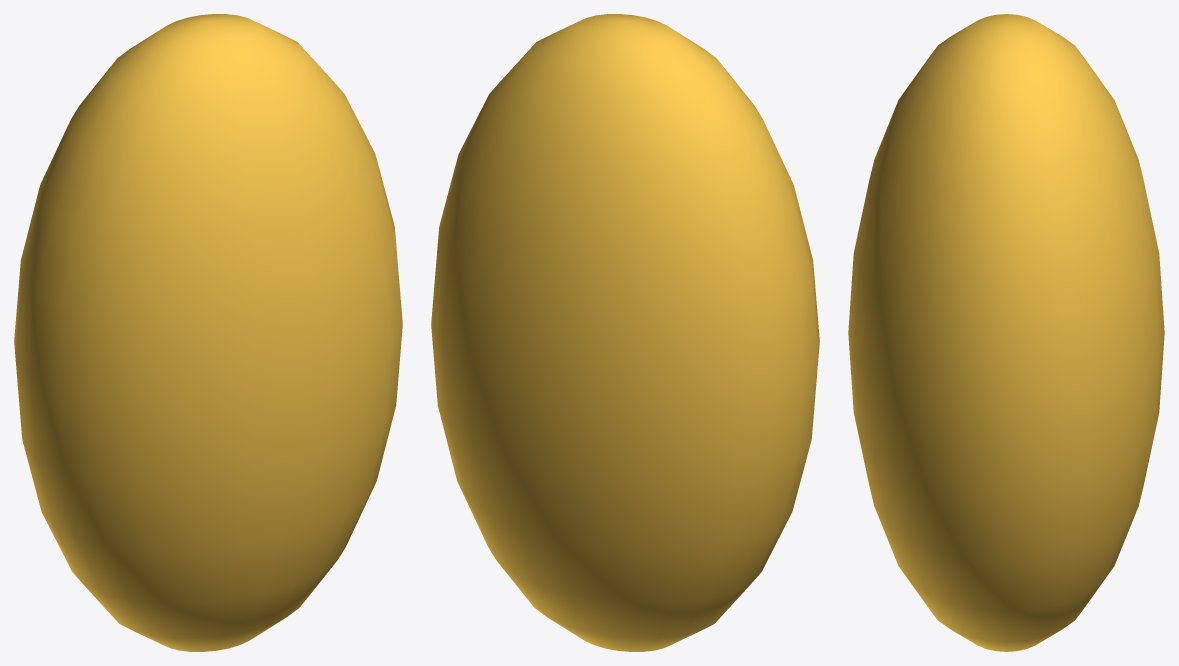
File: spark_hot.glb
3 renders of one model, left to right at view 1: azimuth 30°, elevation 25°; view 2: azimuth 150°, elevation 25°; view 3: azimuth 270°, elevation 25°, orthographic.
Parts seen in each view (by area): view 1: spark_hot; view 2: spark_hot; view 3: spark_hot.
Boxes of the visible parts, x1,y1,x2,y2 form: spark_hot: [14, 14, 402, 651]; spark_hot: [431, 14, 819, 651]; spark_hot: [848, 14, 1164, 651].
Bounding box in the file's own units: 0.18 × 0.3 × 0.14.
